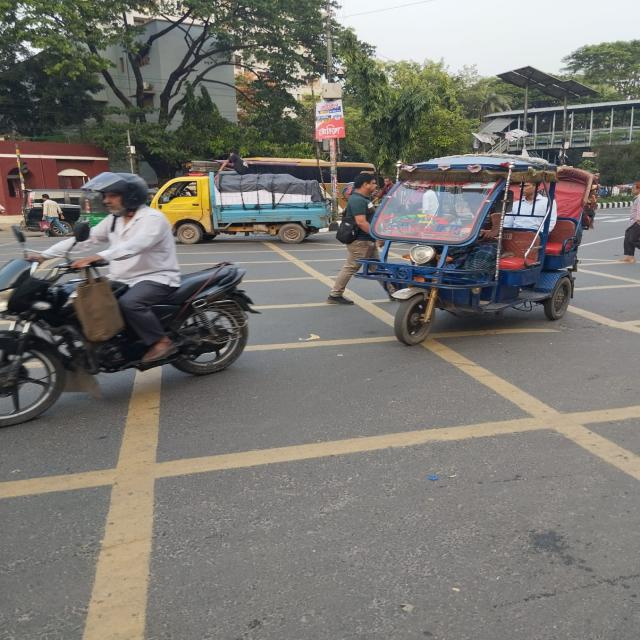person: (327, 174, 384, 305)
